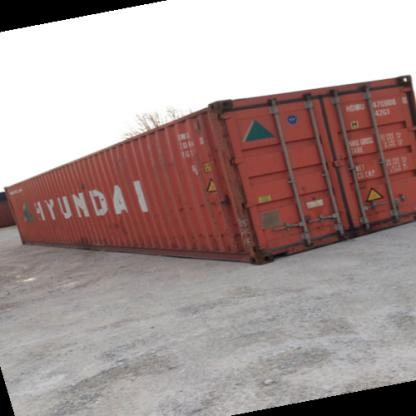Damage: (165, 227, 257, 255), (168, 191, 236, 210), (296, 182, 325, 204), (108, 212, 134, 235), (45, 221, 67, 243), (352, 172, 374, 194), (70, 229, 98, 243), (76, 180, 88, 194)
